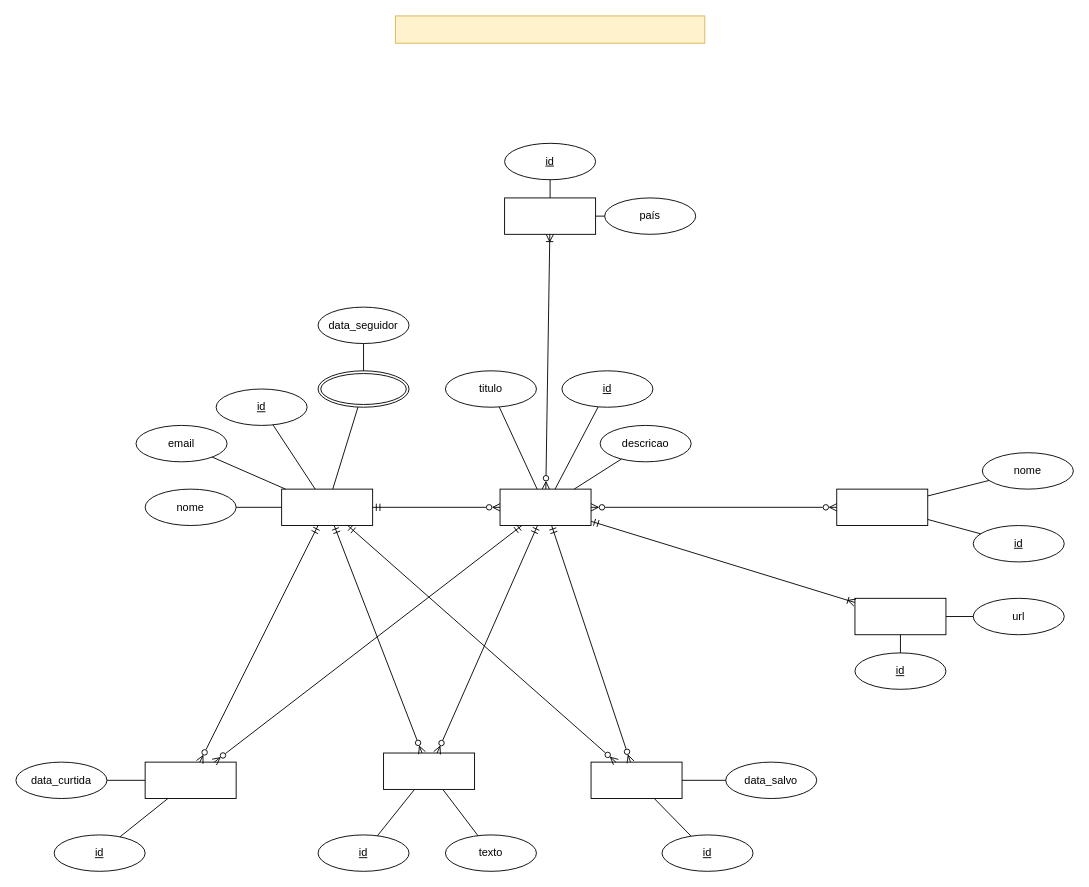
This 1089x887 diagram has some shape labels left out. The centre of each missing label's shape, as x and y in pixels:
categoria: [882,507]
comentario: [429,770]
curtida: [190,780]
DIAGRAMA CONCEITUAL - APP VIAJOU!: [549,29]
item_salvo: [636,780]
localização: [550,215]
midia: [900,616]
postagem: [545,507]
seguidores: [363,388]
usuário: [327,507]
